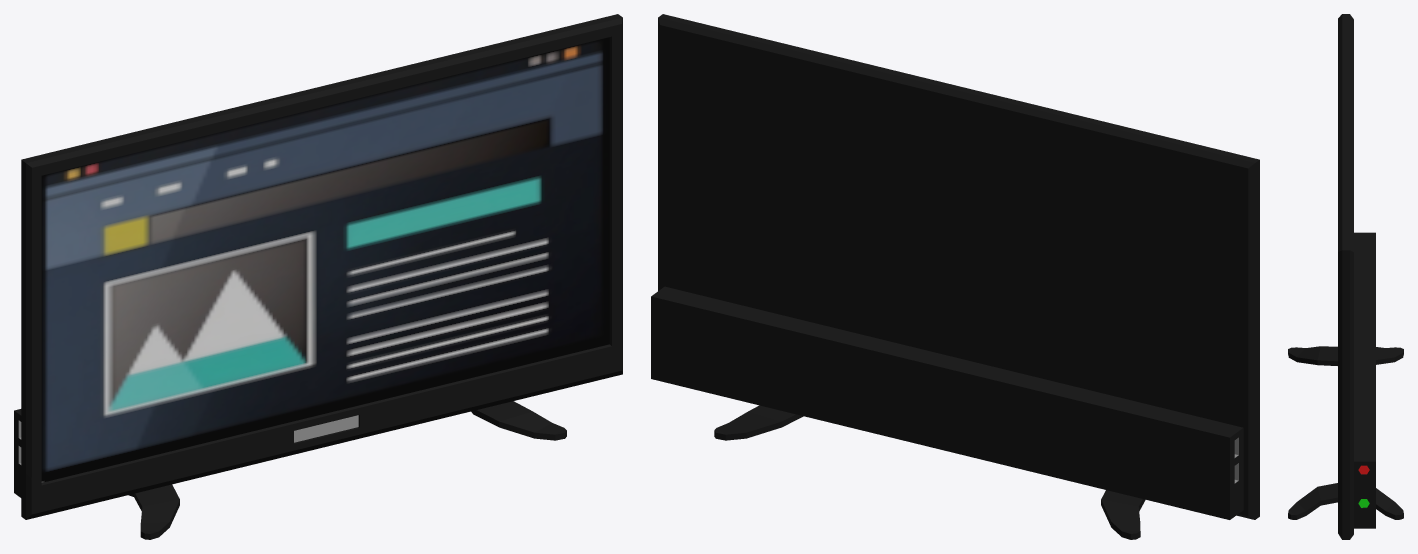
The model's file is Int_TechTV01.fbx.
The picture shows the model from 3 angles, left to right: view 1: azimuth 30°, elevation 25°; view 2: azimuth 150°, elevation 25°; view 3: azimuth 270°, elevation 25°; orthographic projection. The views are drawn at different scales.
Parts seen in each view (by area): view 1: Int_TechTV01; view 2: Int_TechTV01; view 3: Int_TechTV01.
Boxes of the visible parts, x1=… form: Int_TechTV01: x1=14, y1=14, x2=622, y2=539; Int_TechTV01: x1=651, y1=14, x2=1259, y2=539; Int_TechTV01: x1=1288, y1=14, x2=1403, y2=539.
Size of what is drawn, in the model's own units: 175 by 36.27 by 105.
